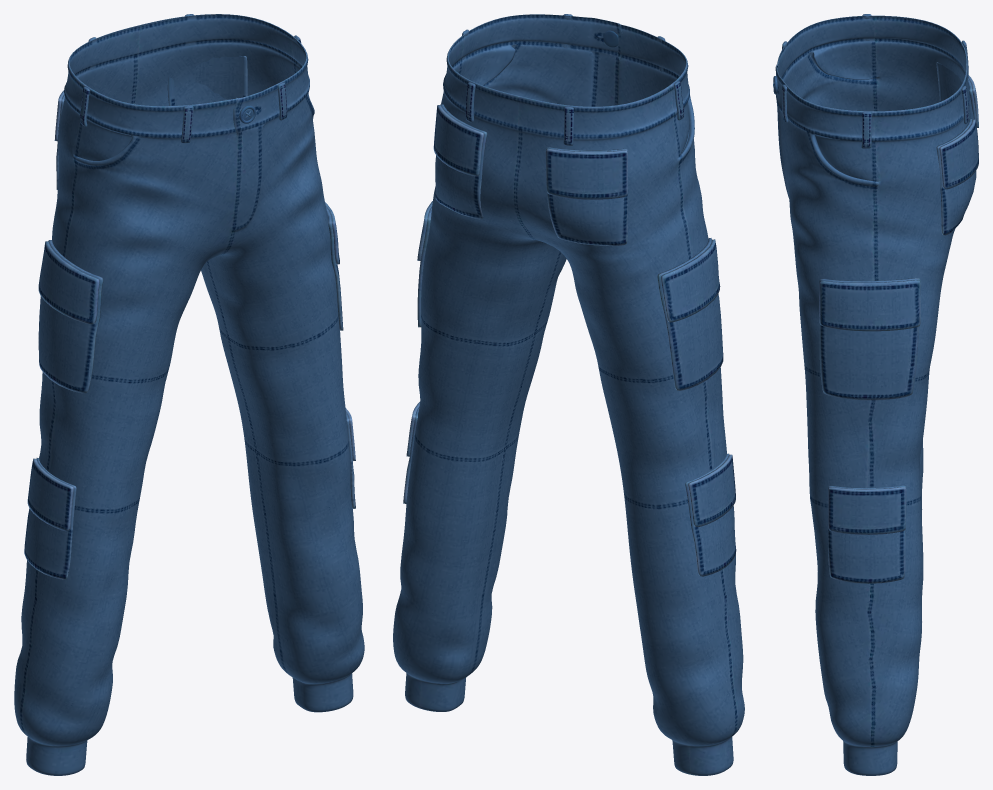
File: MalePants1-2.glb
3 renders of one model, left to right at view 1: azimuth 30°, elevation 25°; view 2: azimuth 150°, elevation 25°; view 3: azimuth 270°, elevation 25°, orthographic. The views are drawn at different scales.
Parts seen in each view (by area): view 1: Cube_Material_0.001; view 2: Cube_Material_0.001; view 3: Cube_Material_0.001.
Boxes of the visible parts, bbox=[...] form: Cube_Material_0.001: bbox=[14, 14, 364, 775]; Cube_Material_0.001: bbox=[393, 14, 744, 775]; Cube_Material_0.001: bbox=[773, 14, 978, 775].
Bounding box in the file's own units: 0.5424 × 1.04 × 0.3025.
1 material, 1 textured.
